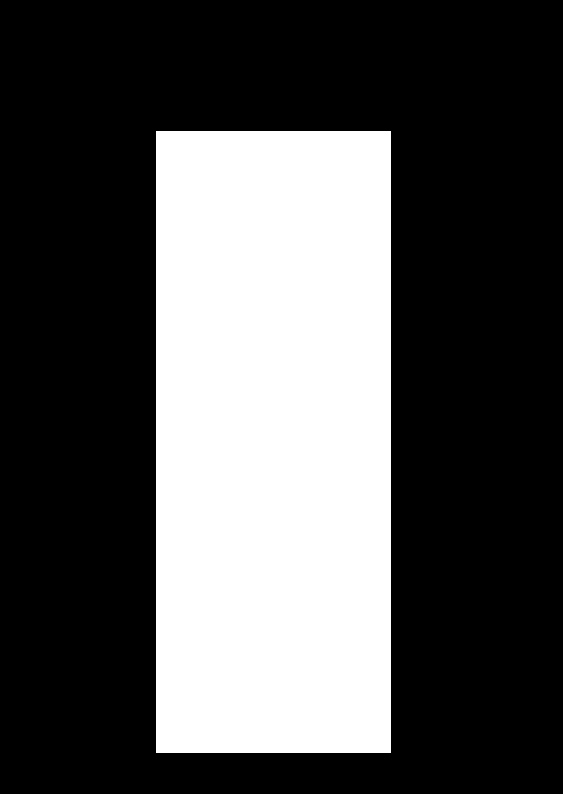table: (156, 131, 390, 752)
